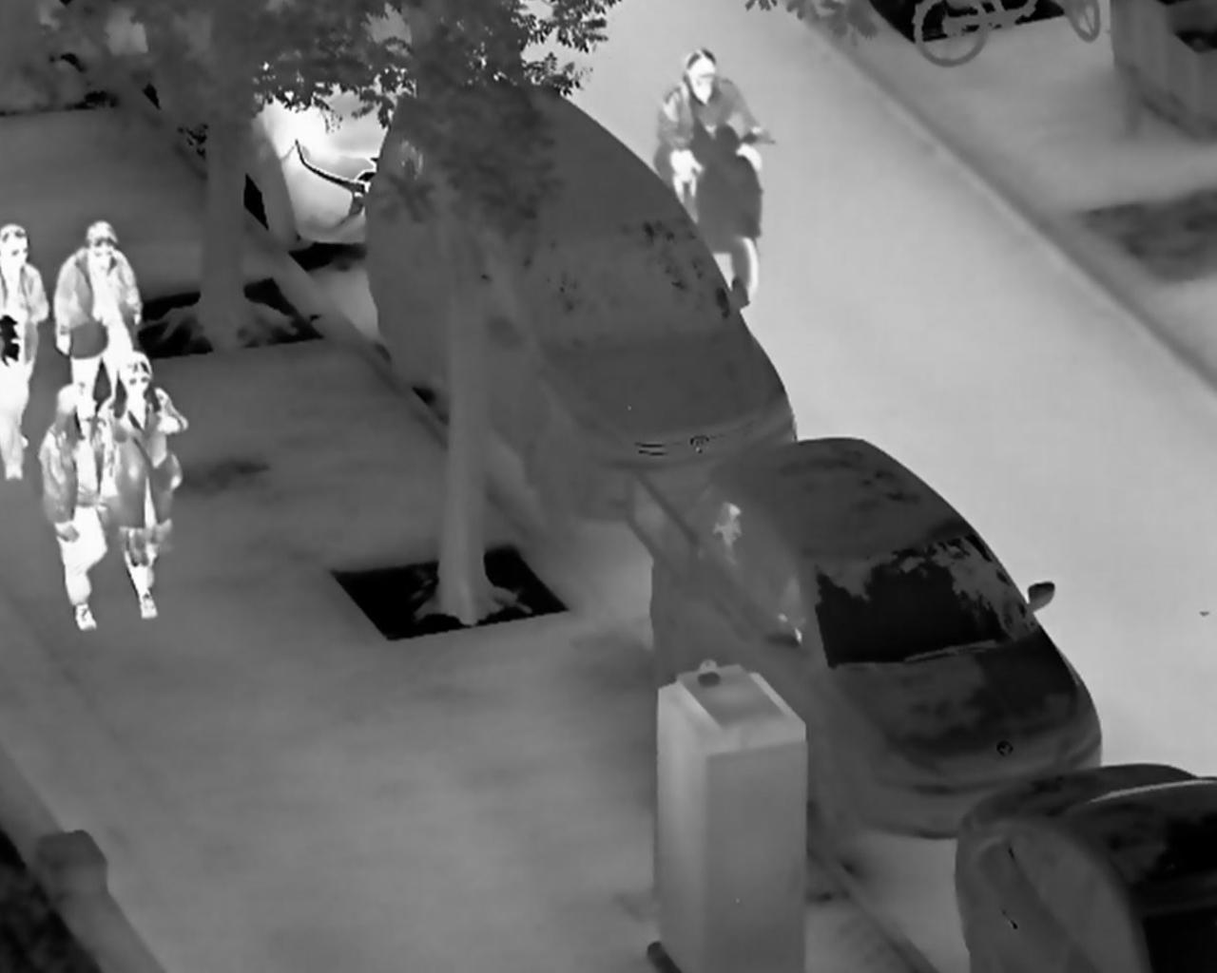person: (102, 349, 189, 622), (35, 381, 113, 633), (655, 45, 764, 213), (52, 218, 144, 397), (2, 222, 52, 480)
